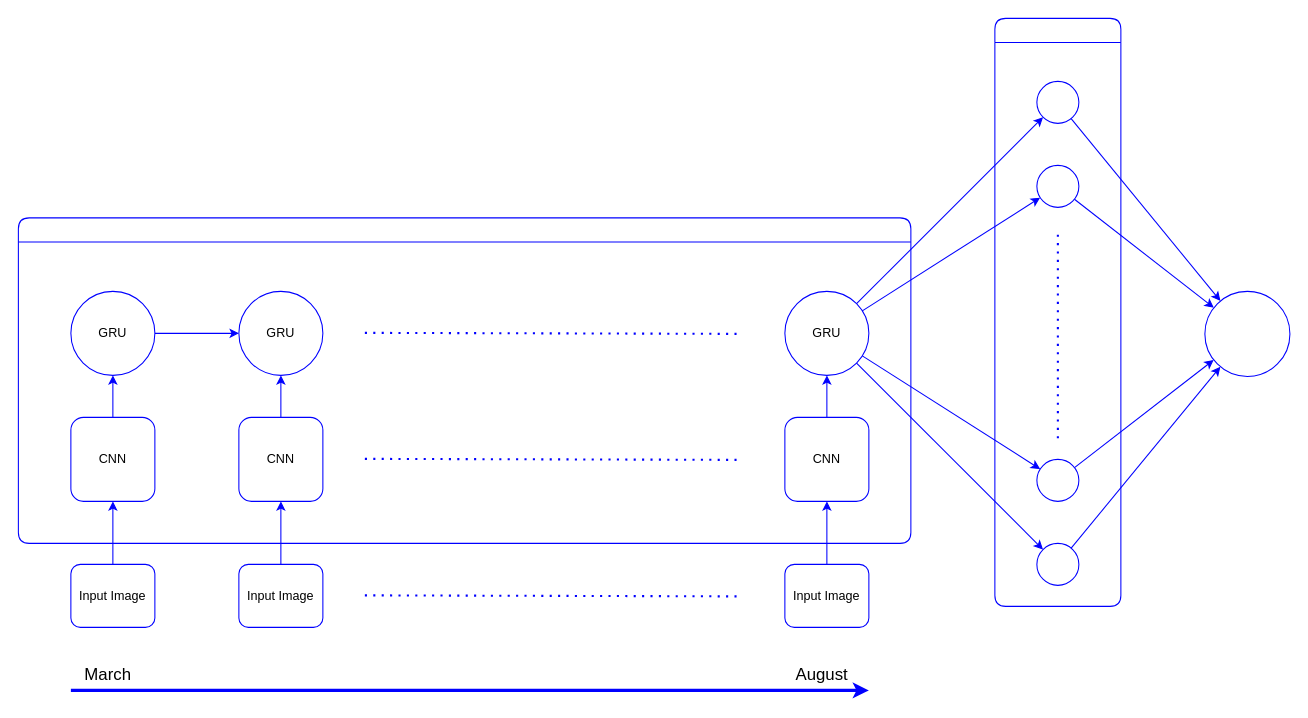
Image size: 1308x718. Some labels were removed from this diagram. Here are the shapes that lost their labels. From the top down, the box of each, then its label:
(994, 17, 1121, 606): Linear
(1204, 290, 1290, 376): output
(17, 217, 911, 543): RNN
